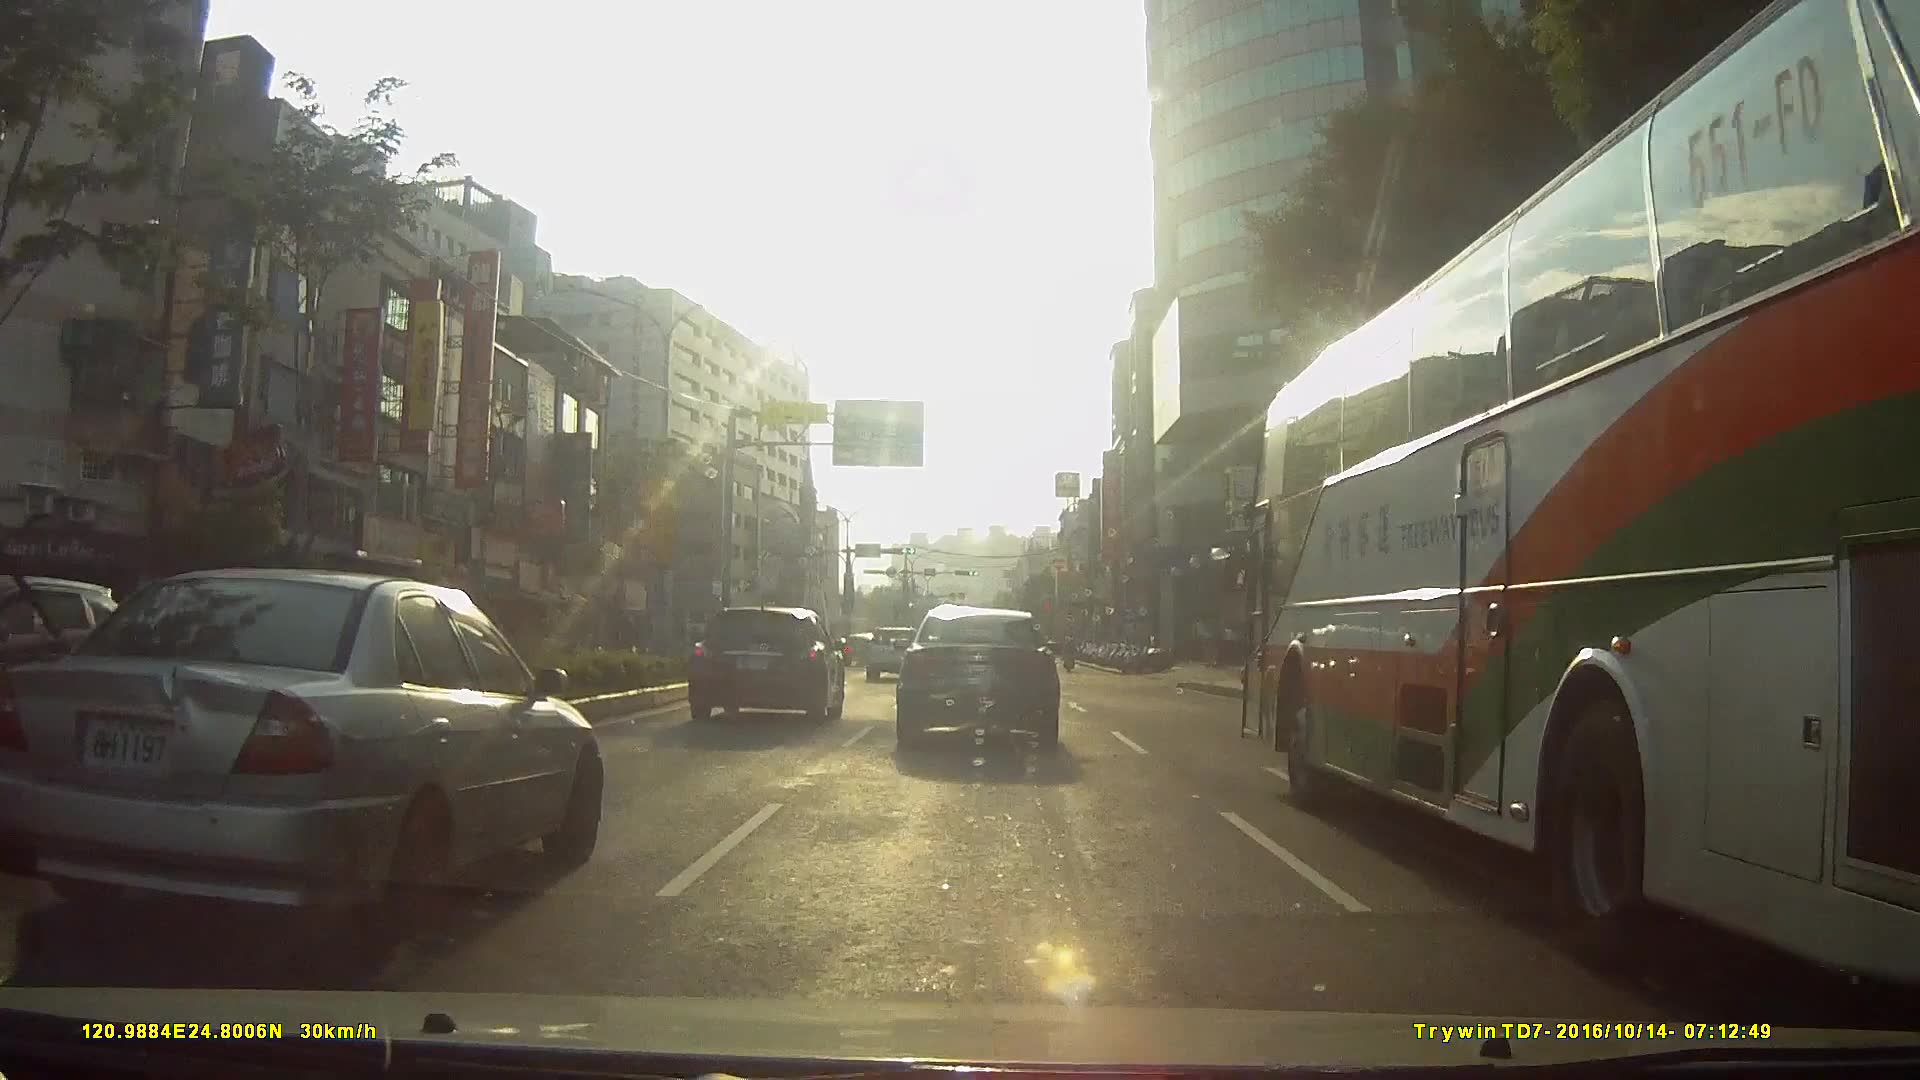vehicle: (1207, 40, 1916, 951), (0, 564, 600, 959), (890, 601, 1058, 752), (686, 604, 845, 721), (862, 625, 922, 680)
